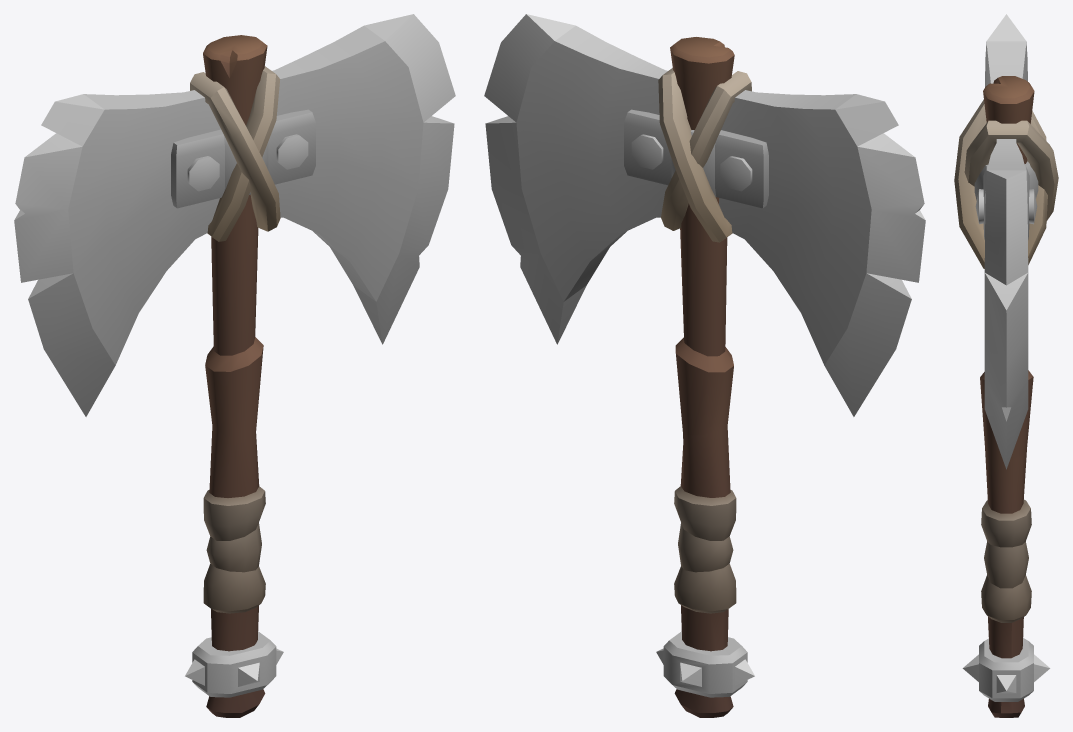
File: battleaxe.glb
3 renders of one model, left to right at view 1: azimuth 30°, elevation 25°; view 2: azimuth 150°, elevation 25°; view 3: azimuth 270°, elevation 25°, orthographic. The views are drawn at different scales.
Parts seen in each view (by area): view 1: axe_B; view 2: axe_B; view 3: axe_B.
Boxes of the visible parts, x1,y1,x2,y2 form: axe_B: (14, 14, 455, 717); axe_B: (484, 14, 925, 717); axe_B: (954, 14, 1058, 717).
Bounding box in the file's own units: 1.15 × 1.66 × 0.2504.
